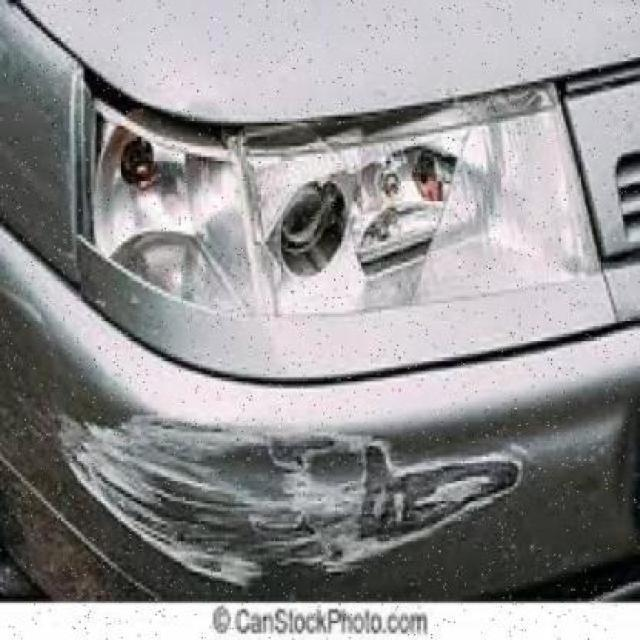Headlight-Damage: (73, 82, 583, 331)
front-bumper-dent: (0, 317, 621, 607)
